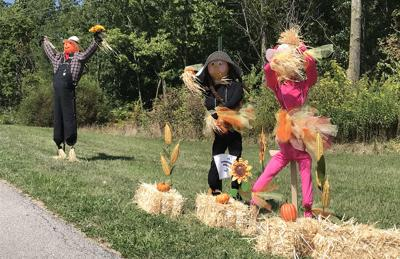person-like: (247, 22, 342, 222), (178, 46, 255, 206), (38, 20, 108, 164)
